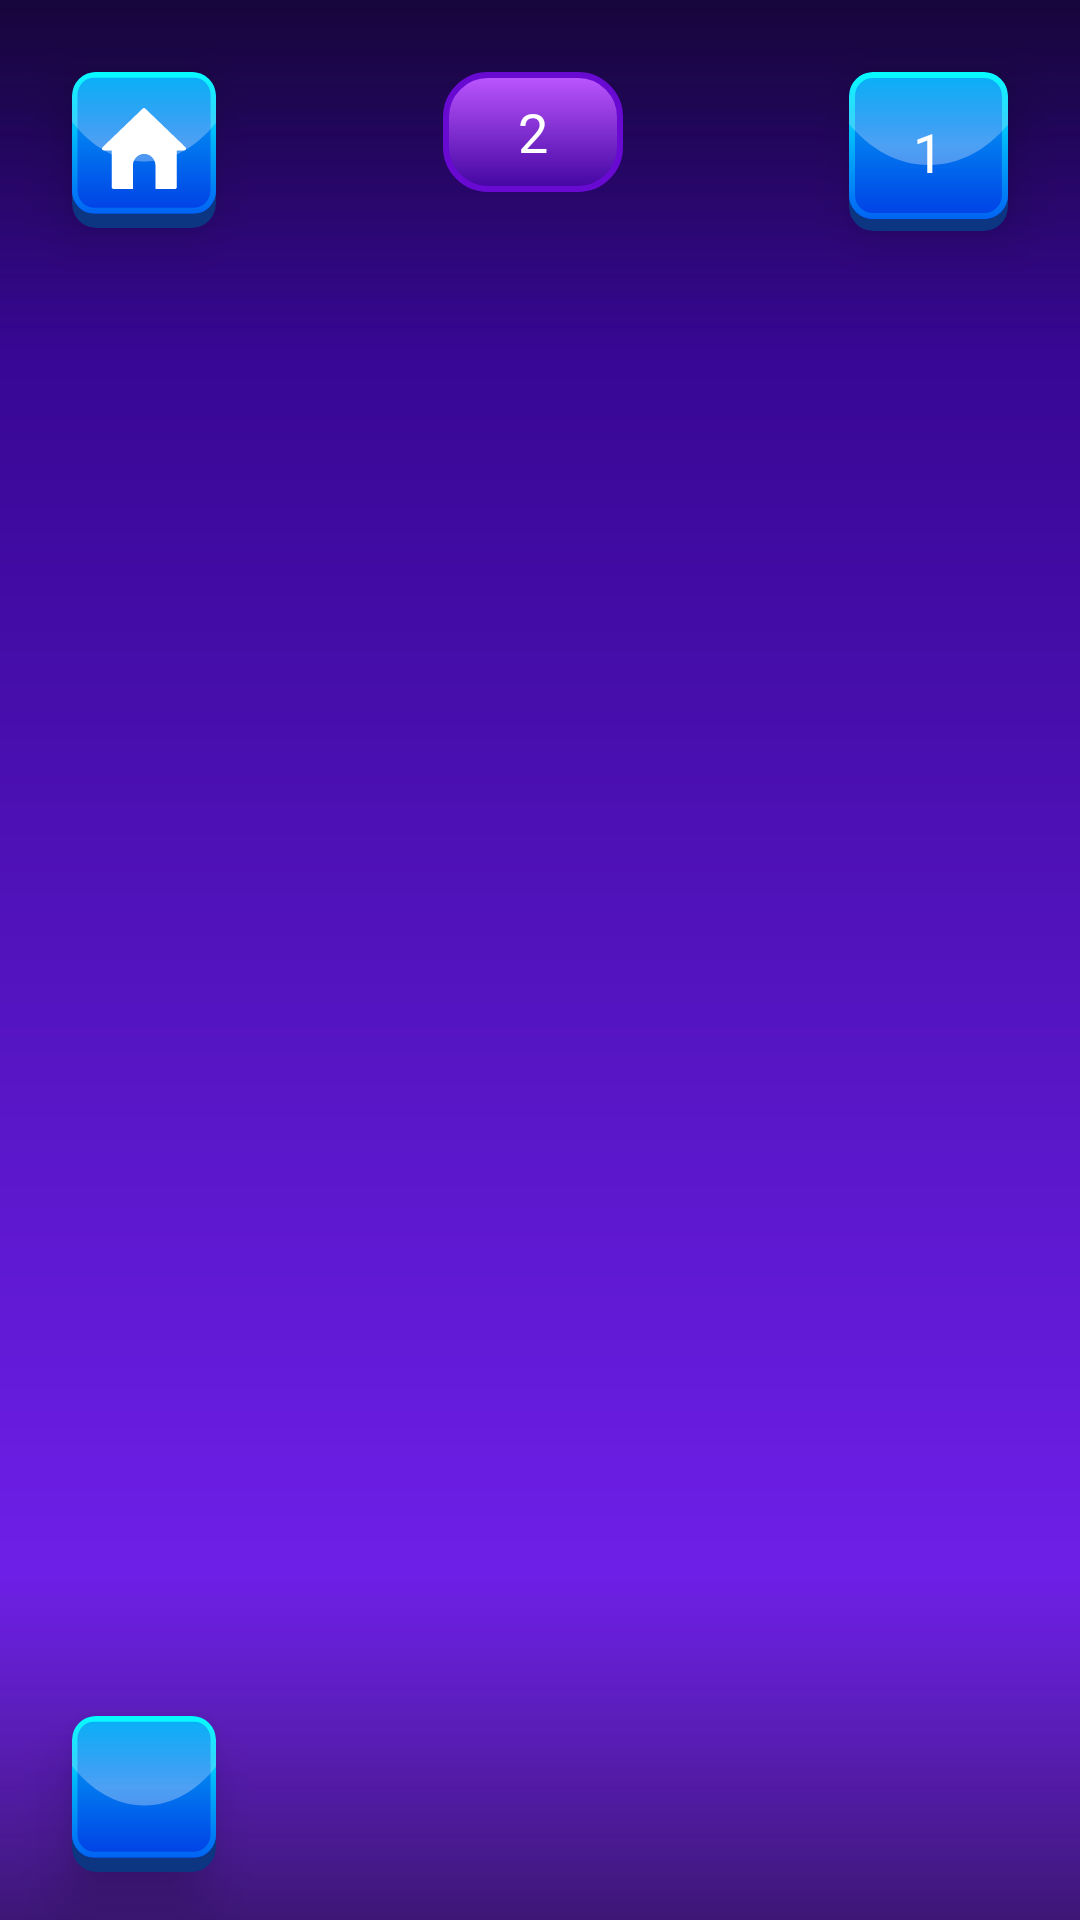

Point at icon controls on the screen. Image size 1080×1920, points as point (x, y).
home: point (144, 148)
